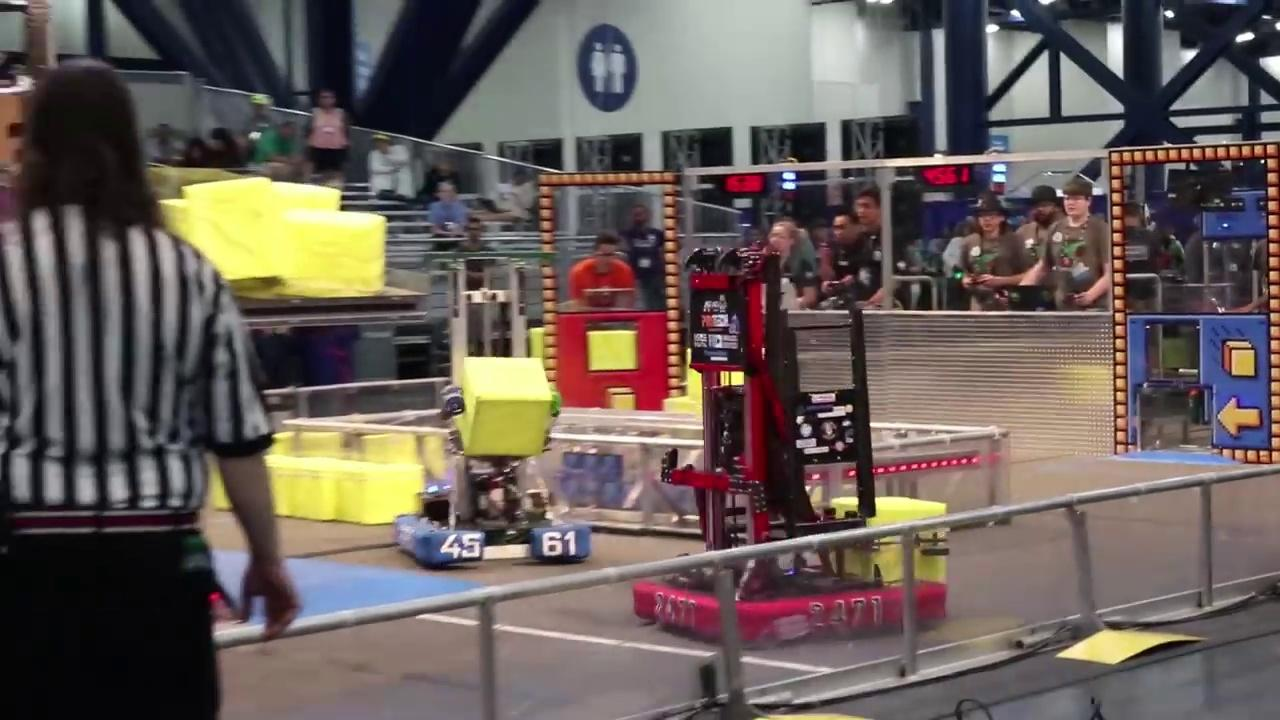robot: (621, 247, 945, 651), (386, 254, 595, 567)
